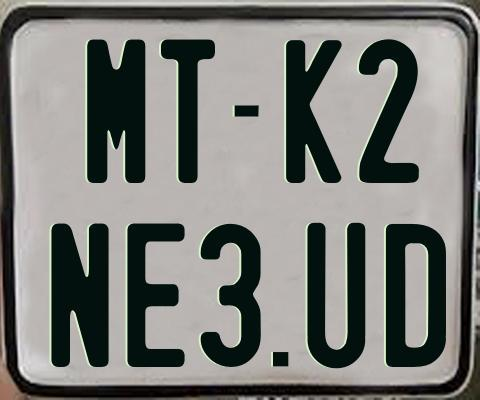2: (358, 36, 418, 182)
3: (198, 224, 262, 371)
D: (386, 222, 447, 369)
E: (127, 222, 189, 368)
K: (284, 37, 344, 184)
M: (87, 38, 151, 188)
N: (48, 220, 106, 364)
T: (160, 38, 220, 182)
U: (306, 220, 367, 366)
